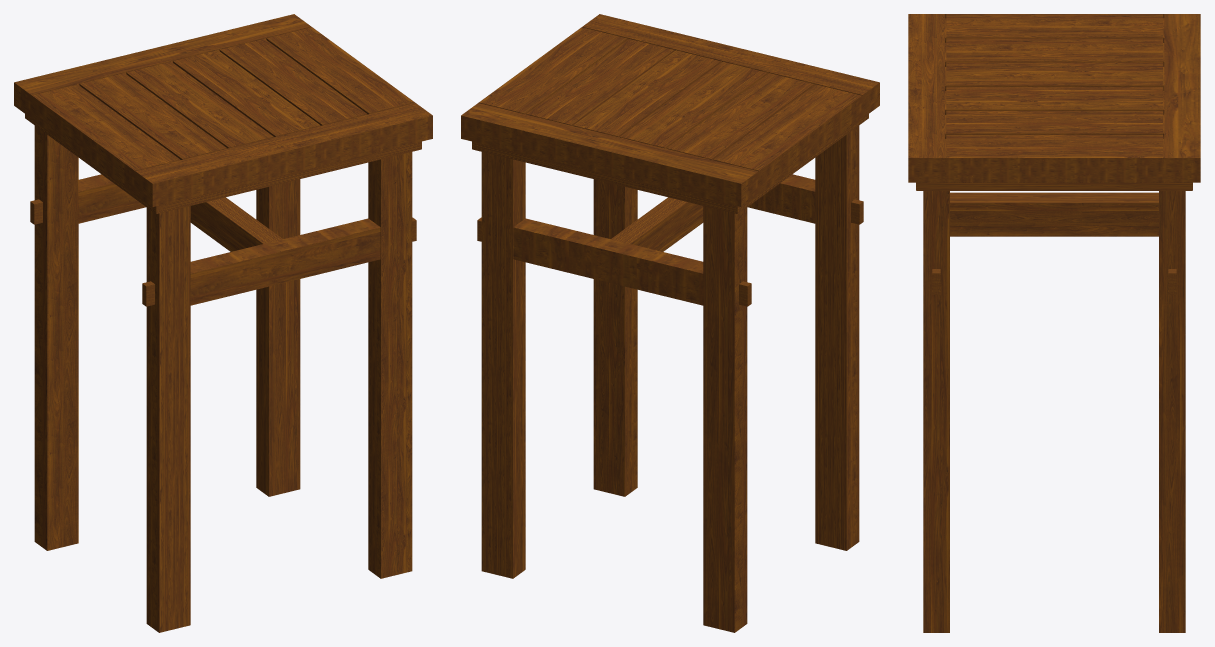
Rendered from Almira-Bar-Table.glb.
The picture shows the model from 3 angles, left to right: view 1: azimuth 30°, elevation 25°; view 2: azimuth 150°, elevation 25°; view 3: azimuth 270°, elevation 25°; orthographic projection. The views are drawn at different scales.
Parts seen in each view (by area): view 1: Cube.013, Cube.003, Cube.002, Cube.005, Cube.004, Cube.006, Cube.008, Cube.014, Cube.007, Cube.016; view 2: Cube.013, Cube.005, Cube.004, Cube.003, Cube.002, Cube.007, Cube.008, Cube.015, Cube.006, Cube.016; view 3: Cube.013, Cube.004, Cube.002, Cube.008, Cube.017.
Part boxes in pixels (box(x1,y1,x2,y2)): Cube.013: box(14, 14, 432, 206); Cube.003: box(146, 206, 190, 632); Cube.002: box(368, 152, 412, 578); Cube.005: box(34, 125, 78, 550); Cube.004: box(256, 179, 300, 496); Cube.006: box(190, 218, 380, 305); Cube.008: box(190, 197, 282, 251); Cube.014: box(156, 142, 421, 213); Cube.007: box(78, 174, 145, 223); Cube.016: box(25, 114, 156, 213); Cube.013: box(461, 14, 879, 206); Cube.005: box(703, 206, 747, 632); Cube.004: box(481, 152, 525, 578); Cube.003: box(815, 125, 859, 550); Cube.002: box(593, 179, 637, 496); Cube.007: box(513, 218, 703, 305); Cube.008: box(610, 197, 703, 251); Cube.015: box(472, 142, 737, 213); Cube.006: box(748, 174, 815, 223); Cube.016: box(737, 114, 868, 213); Cube.013: box(908, 14, 1200, 182); Cube.004: box(1159, 191, 1185, 632); Cube.002: box(923, 191, 949, 632); Cube.008: box(950, 192, 1158, 236); Cube.017: box(916, 182, 1192, 190).
Bounding box in the file's own units: 0.3859 × 0.6021 × 0.3308.
1 material, 1 textured.
